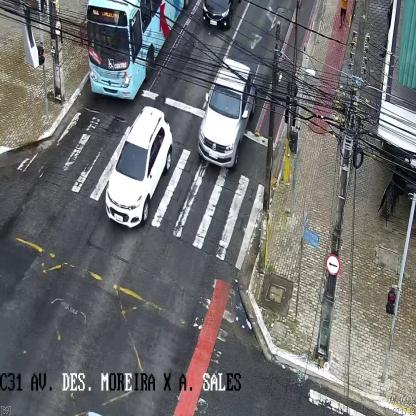bus: (77, 0, 190, 99)
car: (104, 105, 170, 225), (201, 56, 257, 168), (200, 2, 238, 33)
